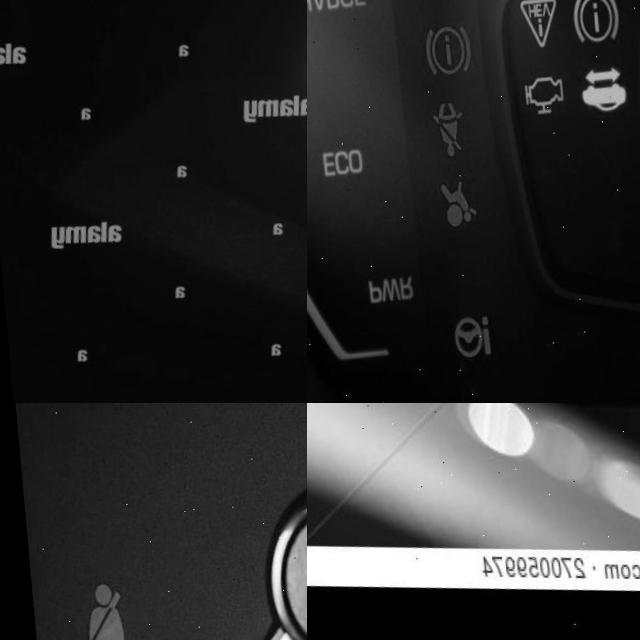Electronic Power Steering Warning: (442, 318, 486, 366)
Seat Belt: (68, 584, 126, 640), (426, 106, 462, 162)
